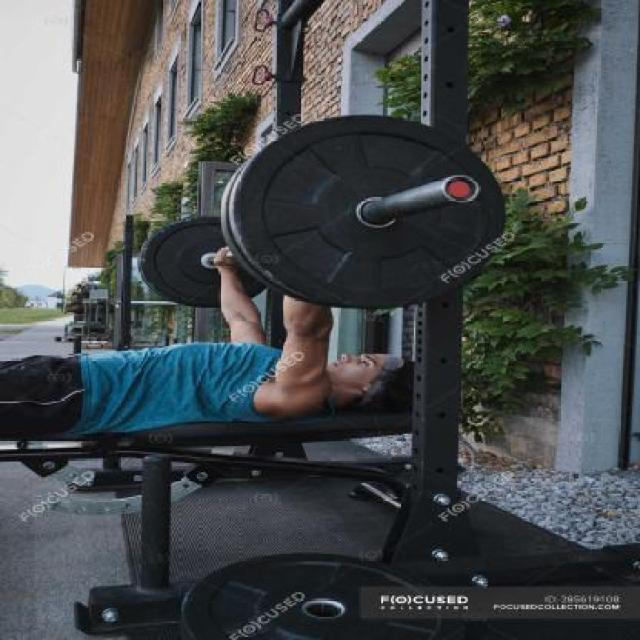barbell: (212, 104, 513, 321)
